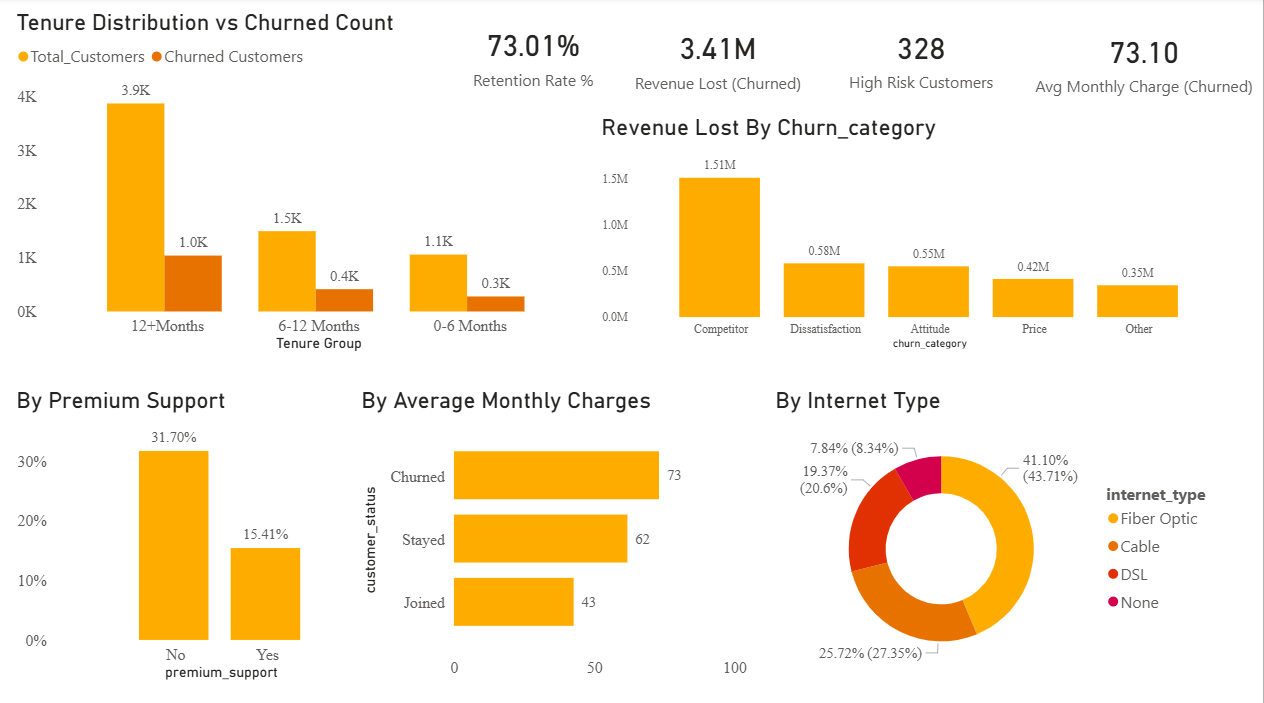

What the dashboard file says about the page in this screenshot:
{"tool":"powerbi","page":{"name":"Churn Drivers & Retention Focus","canvas":[1280,720],"ordinal":1},"visuals":[{"type":"clusteredColumnChart","title":"Tenure Distribution vs Churned Count","fields":{"Y":["Table.Total_Customers","Table.Churned Customers"],"Category":["vw_churn_analysis.Tenure Group "]},"box":[16,12,590,350],"z":0},{"type":"clusteredColumnChart","title":"By Premium Support","fields":{"Category":["vw_churn_analysis.premium_support"],"Y":["Table.Churn Rate %"]},"box":[16.7,393.3,383.3,300],"z":1000},{"type":"donutChart","title":"By Internet Type","fields":{"Y":["Table.Churn Rate %","Table.Churn Rate %"],"Category":["vw_churn_analysis.internet_type"]},"box":[783.3,393.3,460,300],"z":2000},{"type":"card","fields":{"Values":["Table.Retention Rate %"]},"box":[458.3,6.7,168.3,103.3],"z":3000},{"type":"card","fields":{"Values":["Table.Revenue Lost (Churned)"]},"box":[626.7,8.3,205,103.3],"z":4000},{"type":"columnChart","title":"Revenue Lost By Churn_category","fields":{"Category":["vw_churn_analysis.churn_category"],"Y":["Table.Revenue Lost (Churned)"]},"box":[606.7,118.3,636.7,241.7],"z":5000},{"type":"card","fields":{"Values":["Table.High Risk Customers"]},"box":[831.7,8.3,206.7,101.7],"z":6000},{"type":"barChart","title":"By Average Monthly Charges","fields":{"Category":["vw_churn_analysis.customer_status"],"Y":["Table.Avg Monthly Charge"]},"box":[365,393.3,418.3,300],"z":7000},{"type":"card","fields":{"Values":["Table.Avg Monthly Charge (Churned)"]},"box":[1038.3,8.3,241.7,110],"z":8000}]}

Visuals, with their boxes in screenshot pixels (x1, y1, x2, y2), scaled from the page's 1280x720 canvas onto the 1264x703 screenshot:
"Tenure Distribution vs Churned Count" clusteredColumnChart: (left=16, top=12, right=598, bottom=353)
"By Premium Support" clusteredColumnChart: (left=16, top=384, right=395, bottom=677)
"By Internet Type" donutChart: (left=774, top=384, right=1228, bottom=677)
card - Table.Retention Rate %: (left=453, top=7, right=619, bottom=107)
card - Table.Revenue Lost (Churned): (left=619, top=8, right=821, bottom=109)
"Revenue Lost By Churn_category" columnChart: (left=599, top=116, right=1228, bottom=352)
card - Table.High Risk Customers: (left=821, top=8, right=1025, bottom=107)
"By Average Monthly Charges" barChart: (left=360, top=384, right=774, bottom=677)
card - Table.Avg Monthly Charge (Churned): (left=1025, top=8, right=1263, bottom=116)
